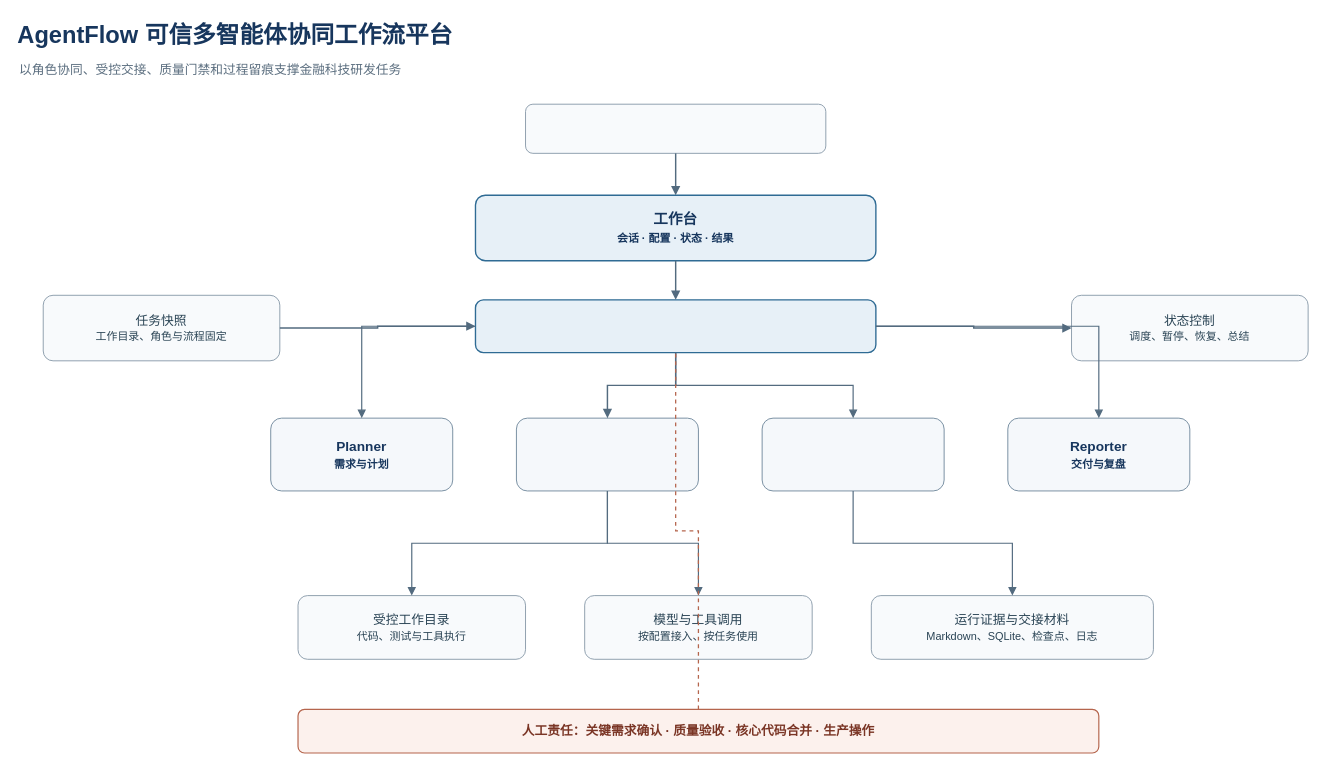
The diagram is 1324 pixels wide and 769 high, and some of its shapes have lost their labels. The shapes that lost their labels are listed below. From the top down, each one's centre as x and y in pixels, then its label:
the point at 675,128: 研发人员与既有研发流程
the point at 675,326: 工作流编排与运行控制
the point at 607,454: Coder 实现与验证
the point at 852,454: Reviewer 质量与结论
